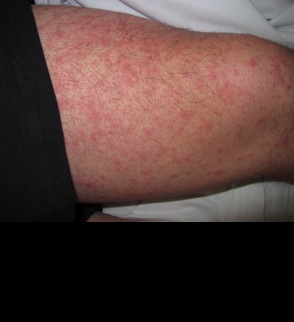SJS-TEN: (25, 0, 294, 209)
